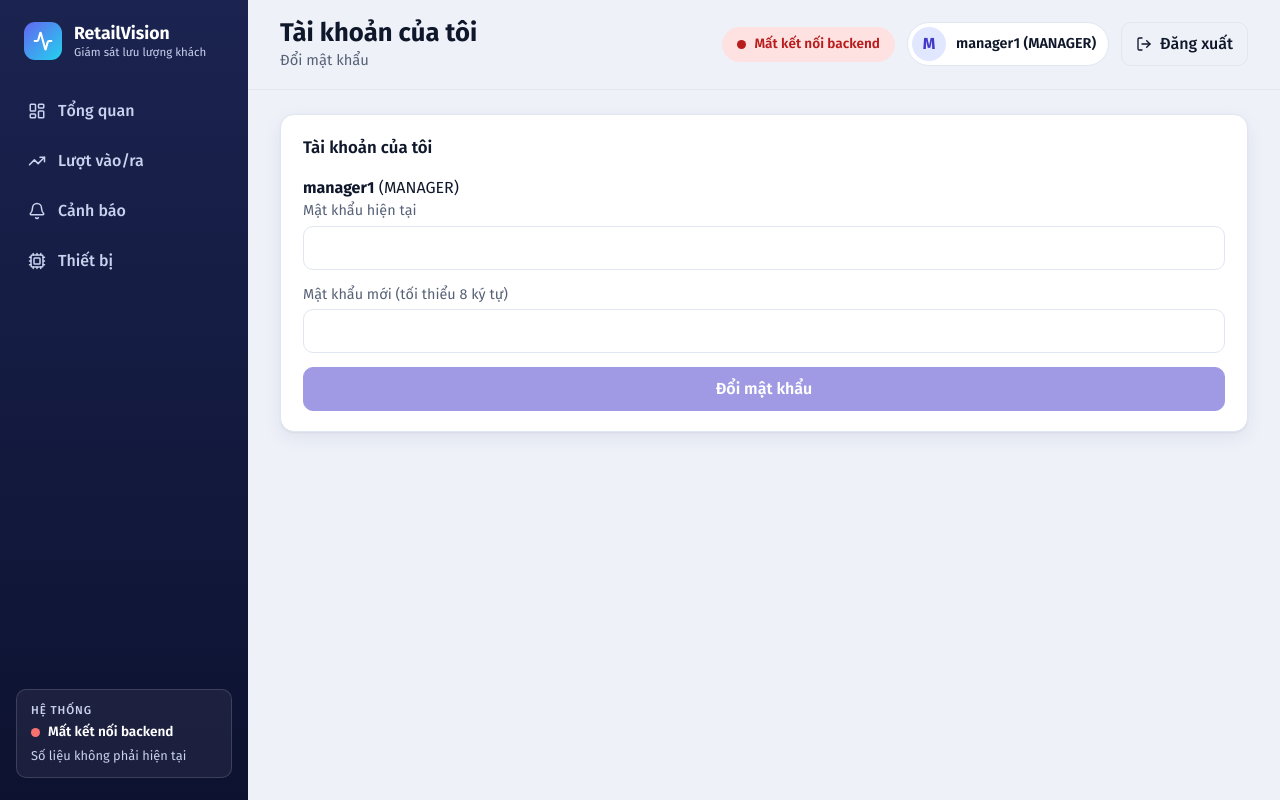
Test: trang Tài khoản của tôi › mật khẩu hiện tại sai: hiện thông báo của backend
Type "sai-sai-sai" into the password field labelled "Mật khẩu hiện tại". click: (764, 248)
box: [303,226,1225,270]
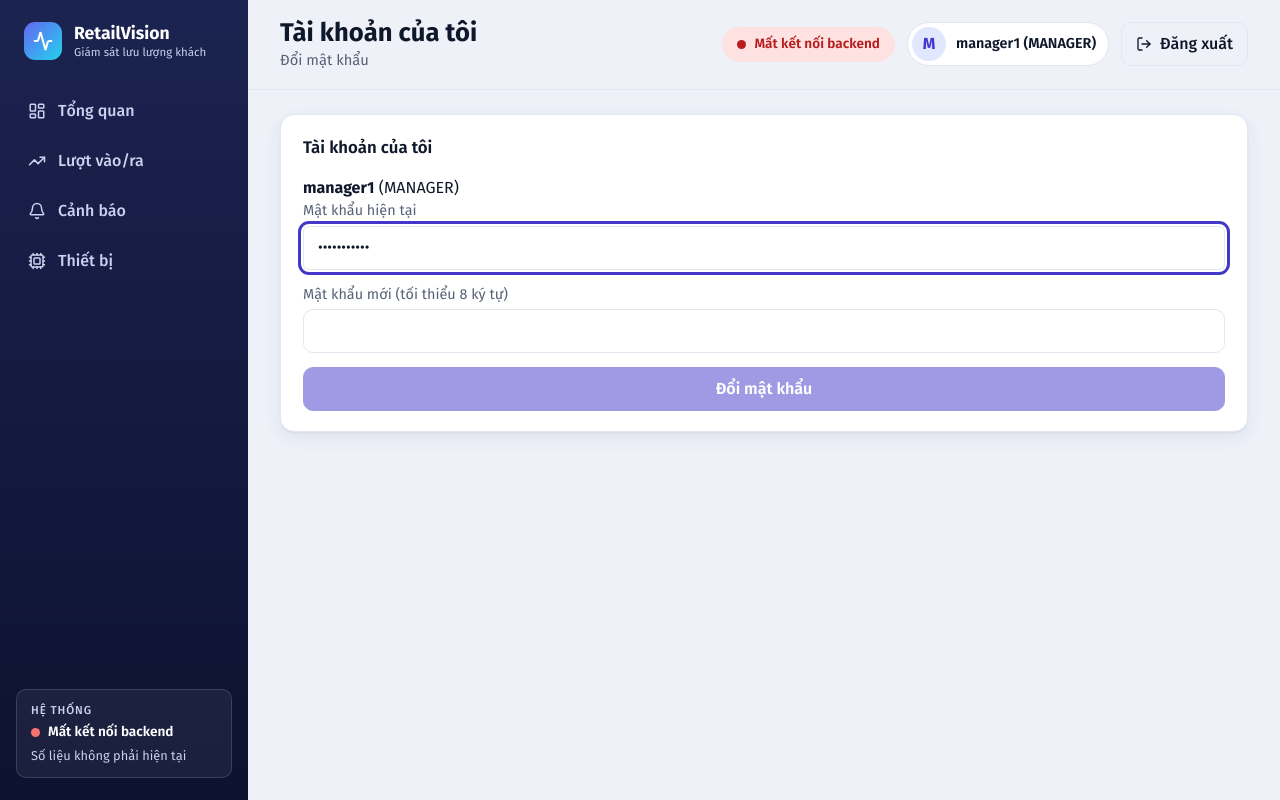
Type "moi-moi-moi" into the password field labelled "Mật khẩu mới (tối thiểu 8 ký tự)". click: (764, 331)
box: [303,309,1225,353]
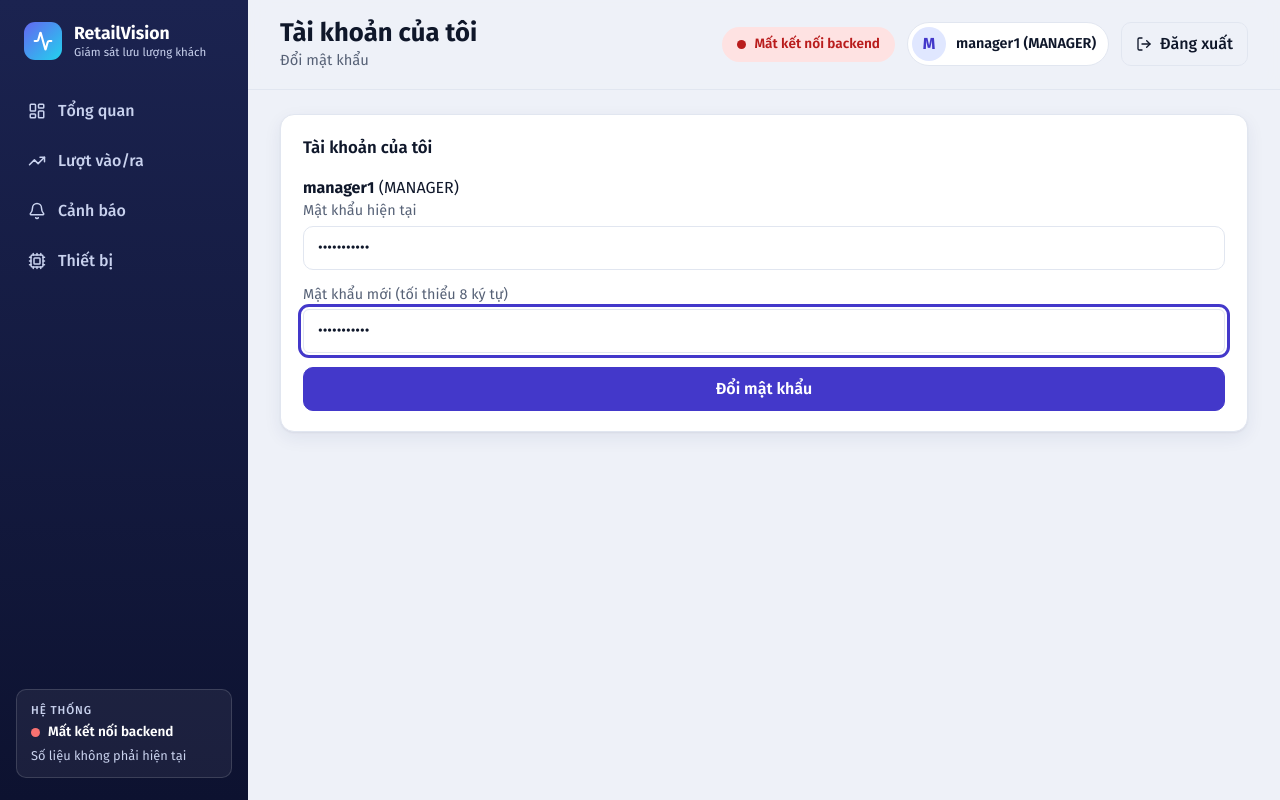
Click the button "Đổi mật khẩu". click: (764, 389)
box: [303,367,1225,411]
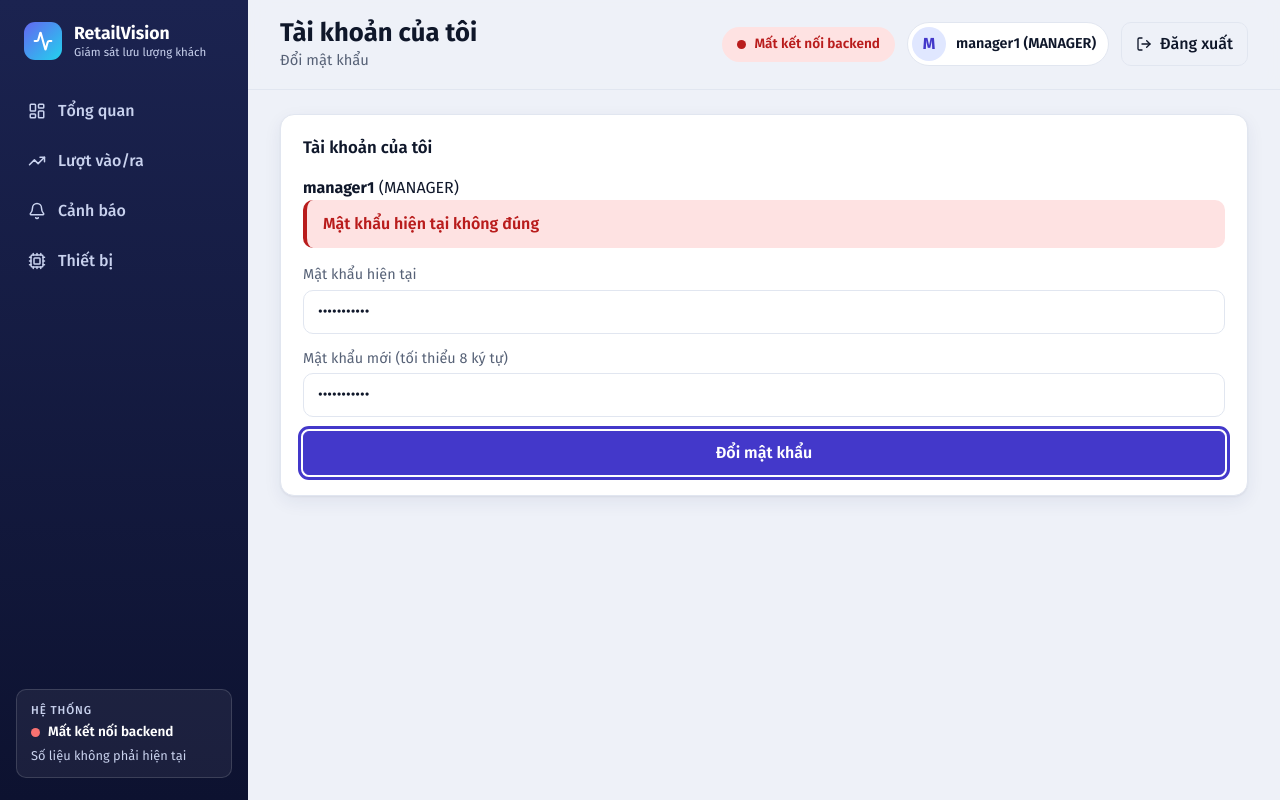
Now the text "Mật khẩu hiện tại không đúng" is shown, box [303,200,1225,248]
